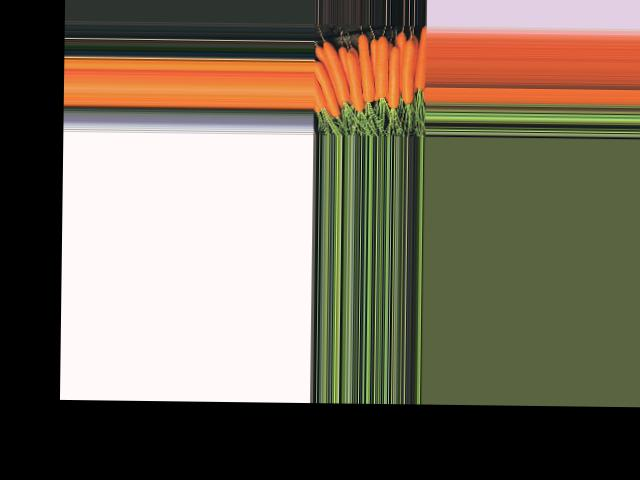carrot: (321, 55, 335, 116)
